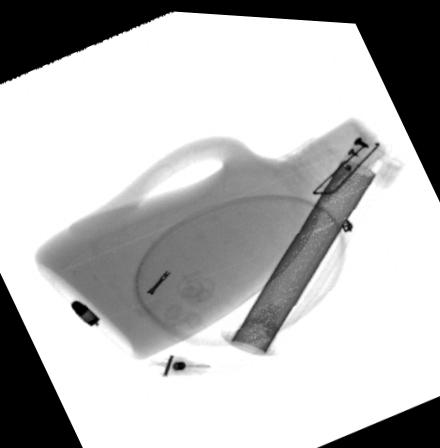Bullet: (67, 296, 98, 324)
